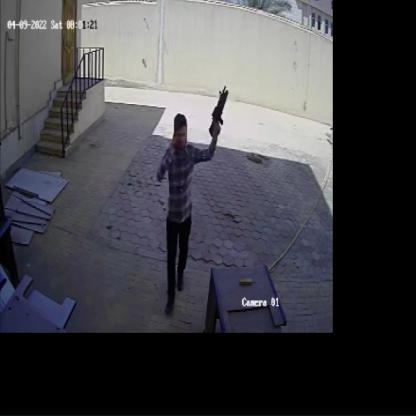handgun: (202, 80, 234, 147)
